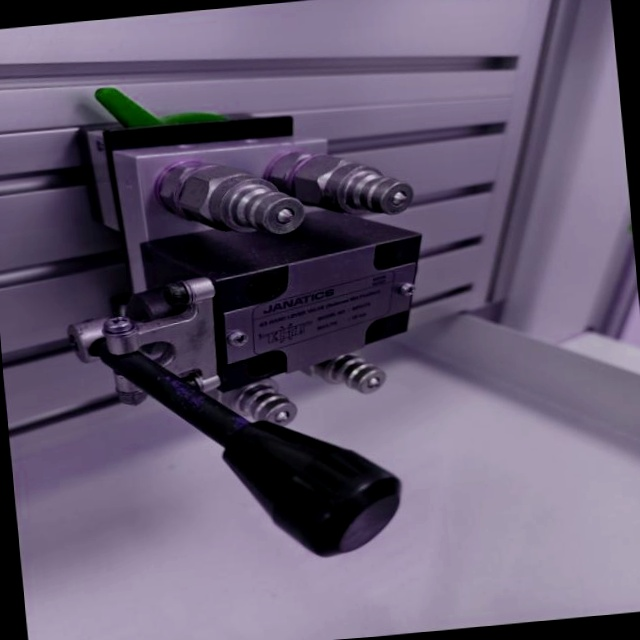4by3 hand lever valve: (41, 48, 463, 583)
